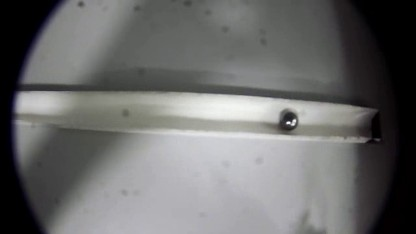gangzhu: (278, 109, 299, 133)
